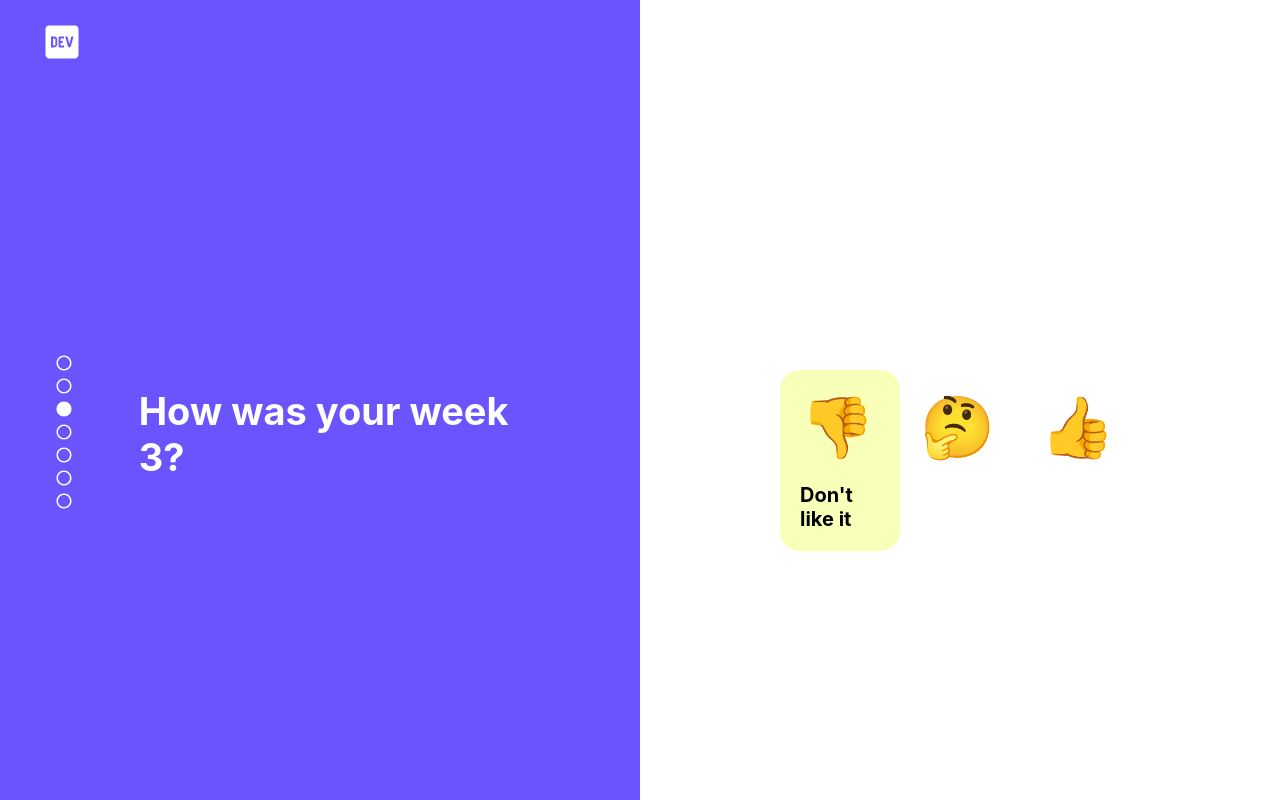
SurveyCarousel Component › handles click on navigation circles
Step 1. Click the 2nd icon with class "navigation-circle" → click(64, 386), box [55, 376, 73, 394]
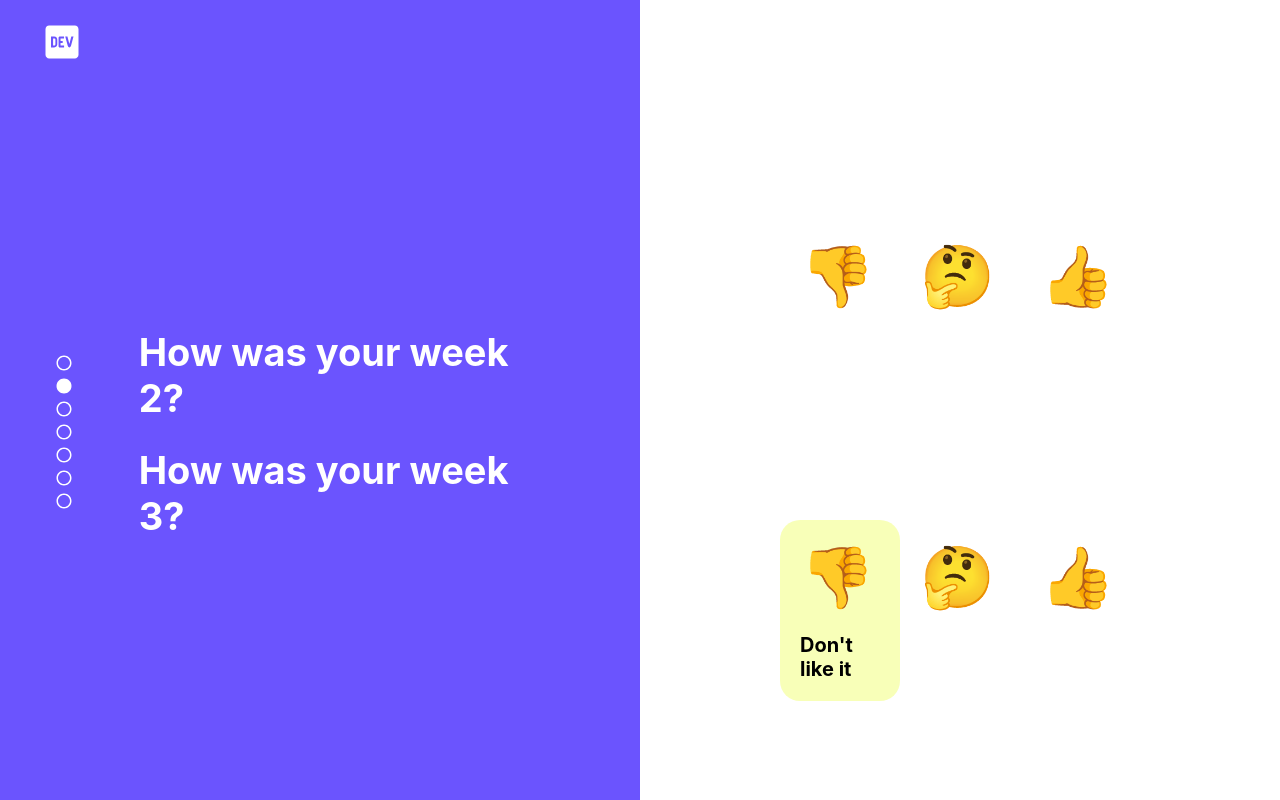
Check: the heading "How was your week 2?" is shown, box [139, 329, 508, 421]
